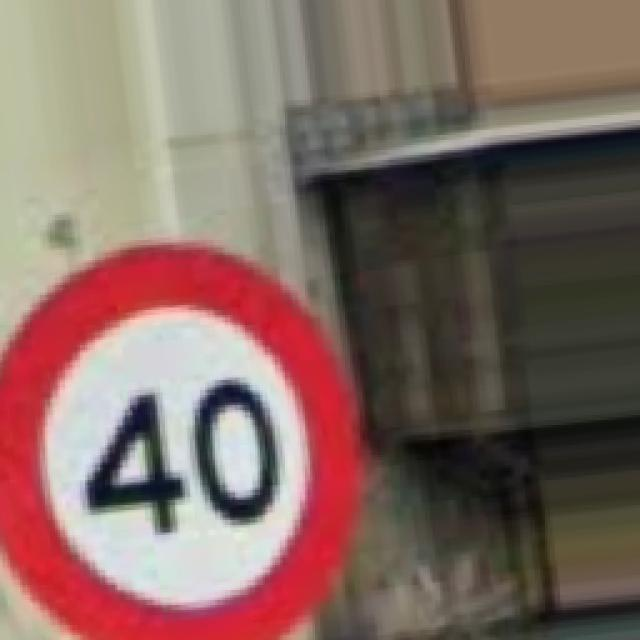Speed Limit -40-: (0, 248, 355, 638)
